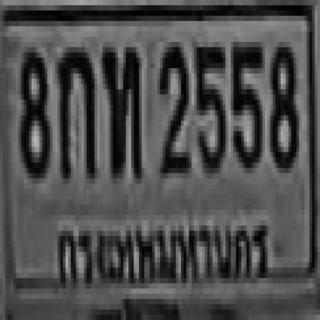A01: (55, 42, 94, 178)
A23: (100, 42, 139, 173)
N02: (157, 39, 189, 171)
N05: (230, 37, 261, 168), (192, 42, 223, 168)
N08: (18, 42, 47, 173), (268, 42, 296, 168)
P04: (50, 211, 274, 289)
